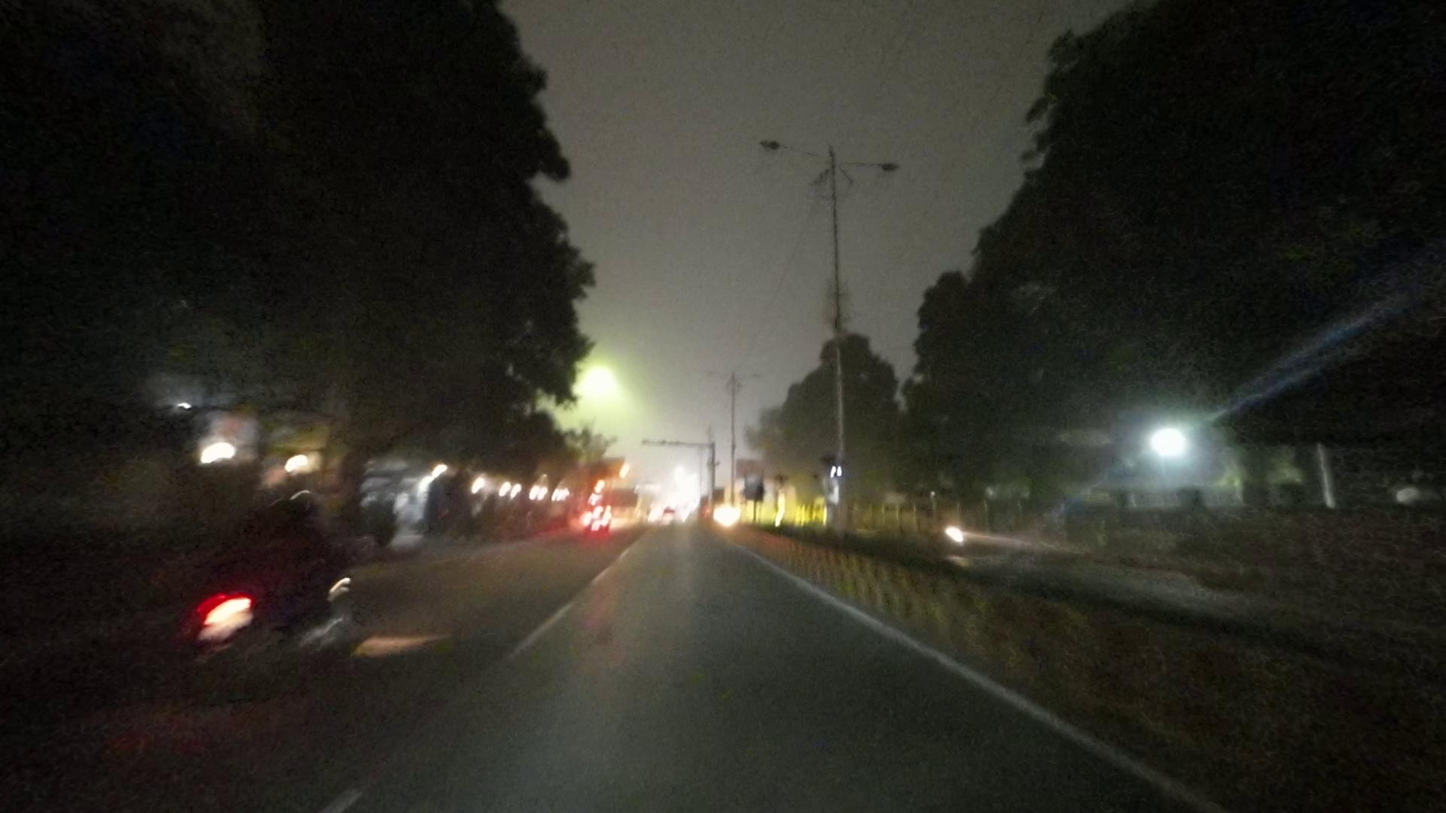streetlight: (759, 137, 829, 163), (840, 154, 902, 175)
